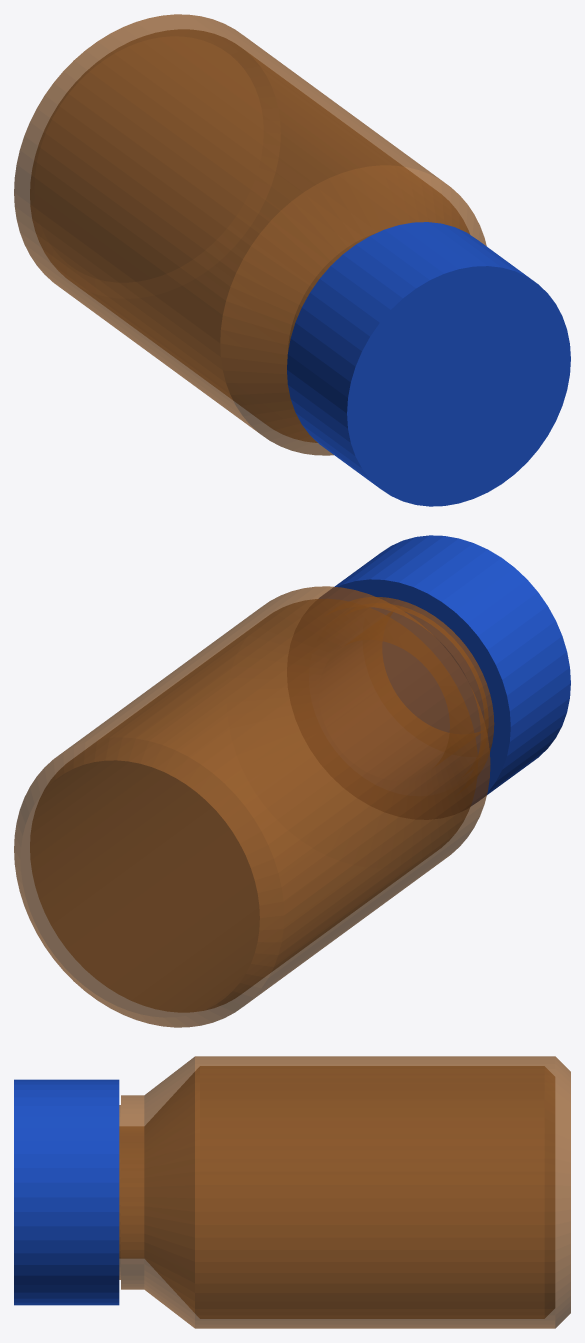
File: reagent_bottle_amber.glb
3 views of the same model, one above another, from view 1: azimuth 30°, elevation 25°; view 2: azimuth 150°, elevation 25°; view 3: azimuth 270°, elevation 25° (orthographic). The views are drawn at different scales.
Parts seen in each view (by area): view 1: duran_gl45_250ml_amber__body, duran_gl45_250ml_amber__cap; view 2: duran_gl45_250ml_amber__body, duran_gl45_250ml_amber__cap; view 3: duran_gl45_250ml_amber__body, duran_gl45_250ml_amber__cap.
Boxes of the visible parts, x1=… form: duran_gl45_250ml_amber__body: x1=14, y1=14, x2=486, y2=455; duran_gl45_250ml_amber__cap: x1=287, y1=222, x2=570, y2=506; duran_gl45_250ml_amber__body: x1=14, y1=586, x2=494, y2=1027; duran_gl45_250ml_amber__cap: x1=319, y1=535, x2=570, y2=805; duran_gl45_250ml_amber__body: x1=119, y1=1056, x2=570, y2=1328; duran_gl45_250ml_amber__cap: x1=14, y1=1079, x2=119, y2=1305.
Bounding box in the file's own units: 0.07 × 0.07 × 0.143.
